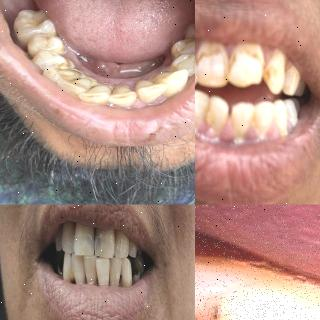calculus: (230, 113, 248, 147), (202, 98, 218, 134), (245, 110, 263, 136), (130, 78, 154, 92), (79, 73, 100, 89), (143, 70, 165, 85), (64, 68, 86, 80), (68, 260, 78, 286), (114, 82, 132, 96), (53, 44, 73, 56), (167, 49, 184, 63), (59, 59, 79, 70), (95, 82, 113, 94), (116, 268, 124, 295), (164, 62, 181, 72)
cavities: (87, 225, 105, 253)
maligned: (169, 38, 195, 60), (71, 250, 87, 284), (96, 253, 110, 285), (62, 222, 74, 256), (84, 253, 98, 281)
stains: (53, 65, 80, 79), (64, 78, 88, 92), (111, 86, 137, 96), (139, 83, 161, 91)
